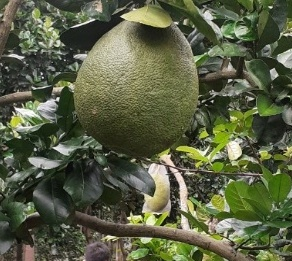Buoi: (73, 4, 207, 164)
